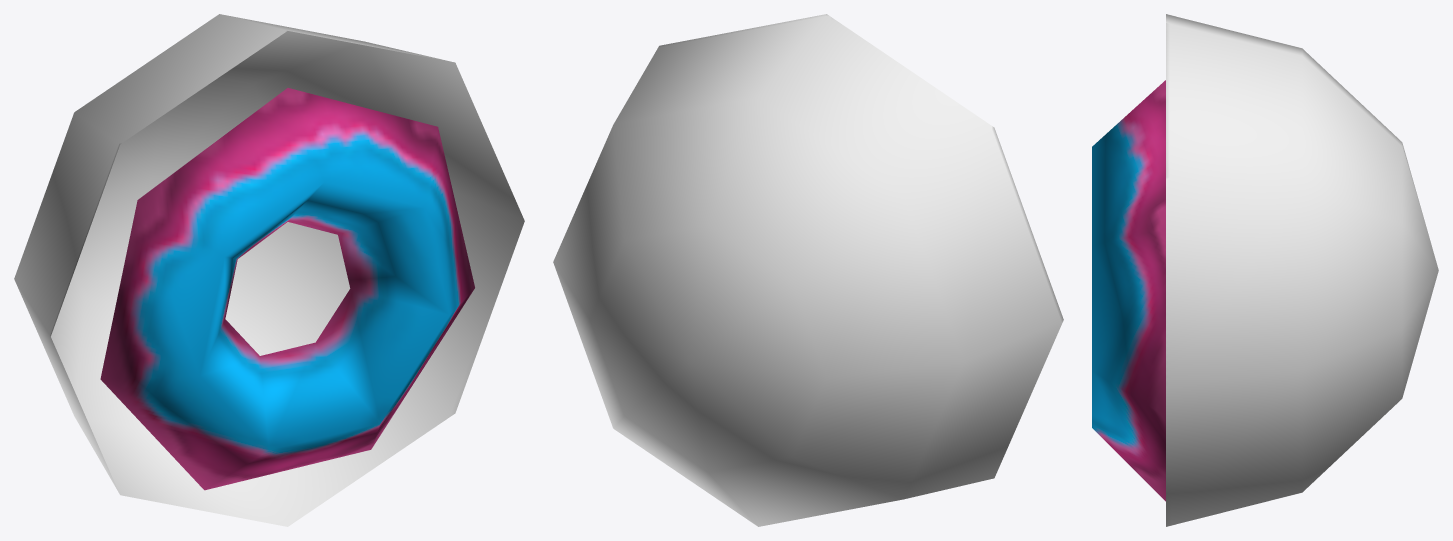
Rendered from Boost_double_sugar_coat.FBX.
3 views of the same model, side by side, from view 1: azimuth 30°, elevation 25°; view 2: azimuth 150°, elevation 25°; view 3: azimuth 270°, elevation 25° (orthographic).
Visible parts, largest first — view 1: Shield, Shielded_donut; view 2: Shield; view 3: Shield, Shielded_donut.
Part boxes in pixels (bbox=[...]): Shield: bbox=[14, 14, 524, 526]; Shielded_donut: bbox=[100, 88, 474, 490]; Shield: bbox=[553, 14, 1063, 526]; Shield: bbox=[1166, 14, 1438, 526]; Shielded_donut: bbox=[1092, 80, 1165, 501].
Size of the model in its own units: 7.4 by 7.4 by 4.7.
